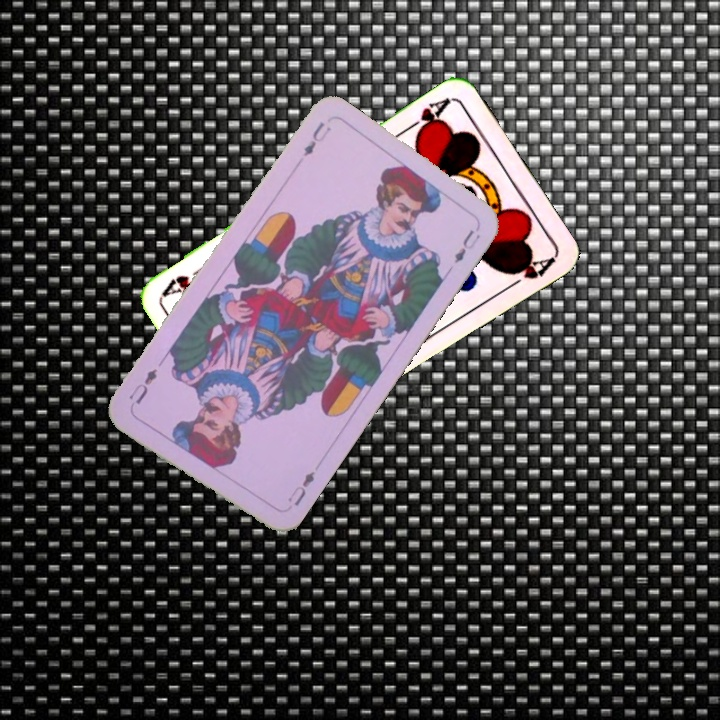EU: (283, 467, 318, 509), (299, 118, 334, 159)
HA: (402, 92, 454, 140)
